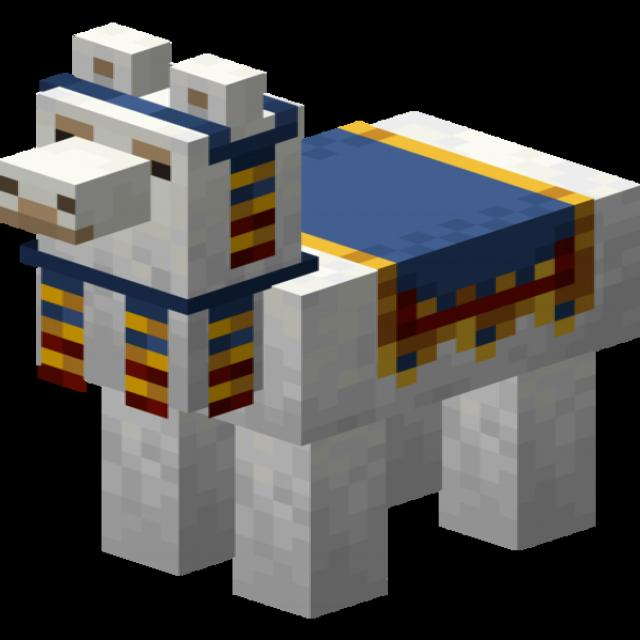Trader Lama: (1, 22, 640, 619)
